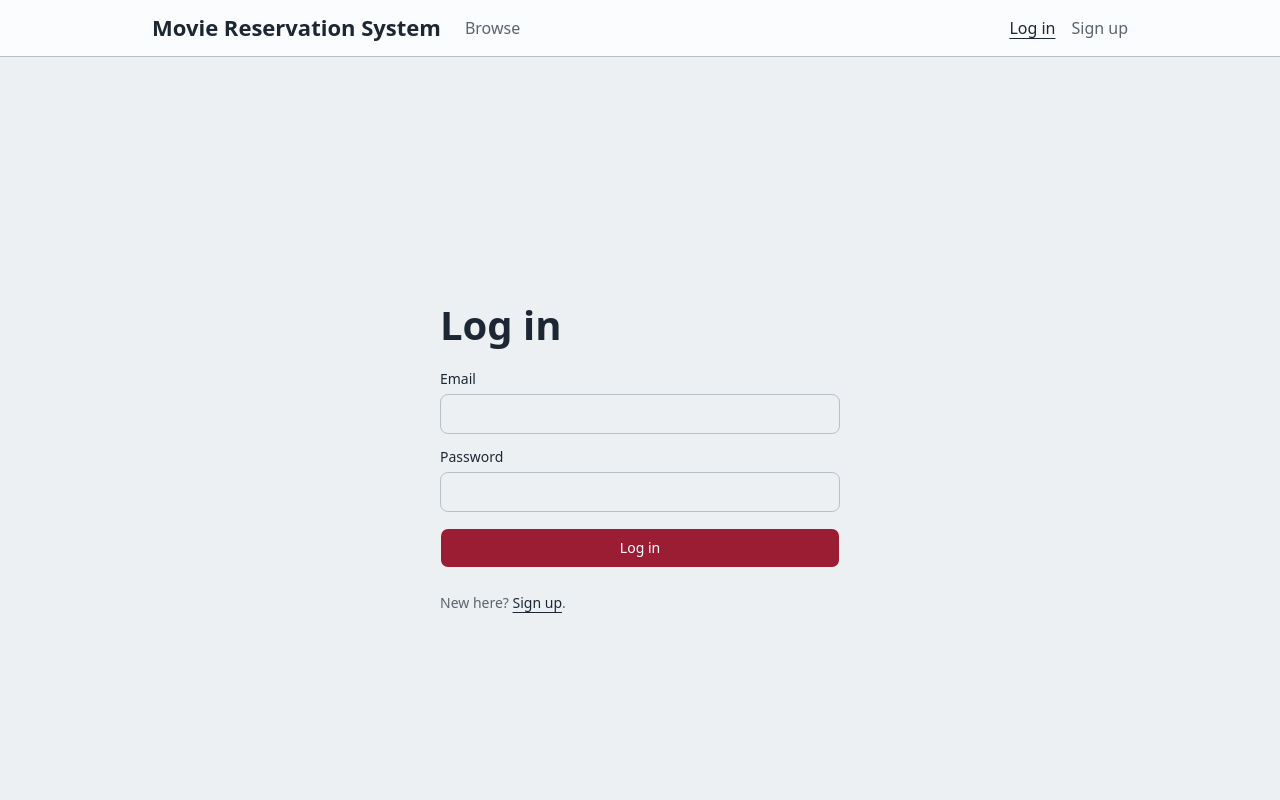
Test: auth › protected_routes_redirect_anonymous_to_login_with_next
Check: the heading "Log in" is shown, box [440,296,562,352]
Type "ana@example.com" into the field labelled "Email".
click(640, 414); type("ana@example.com")  # box [440,394,840,434]
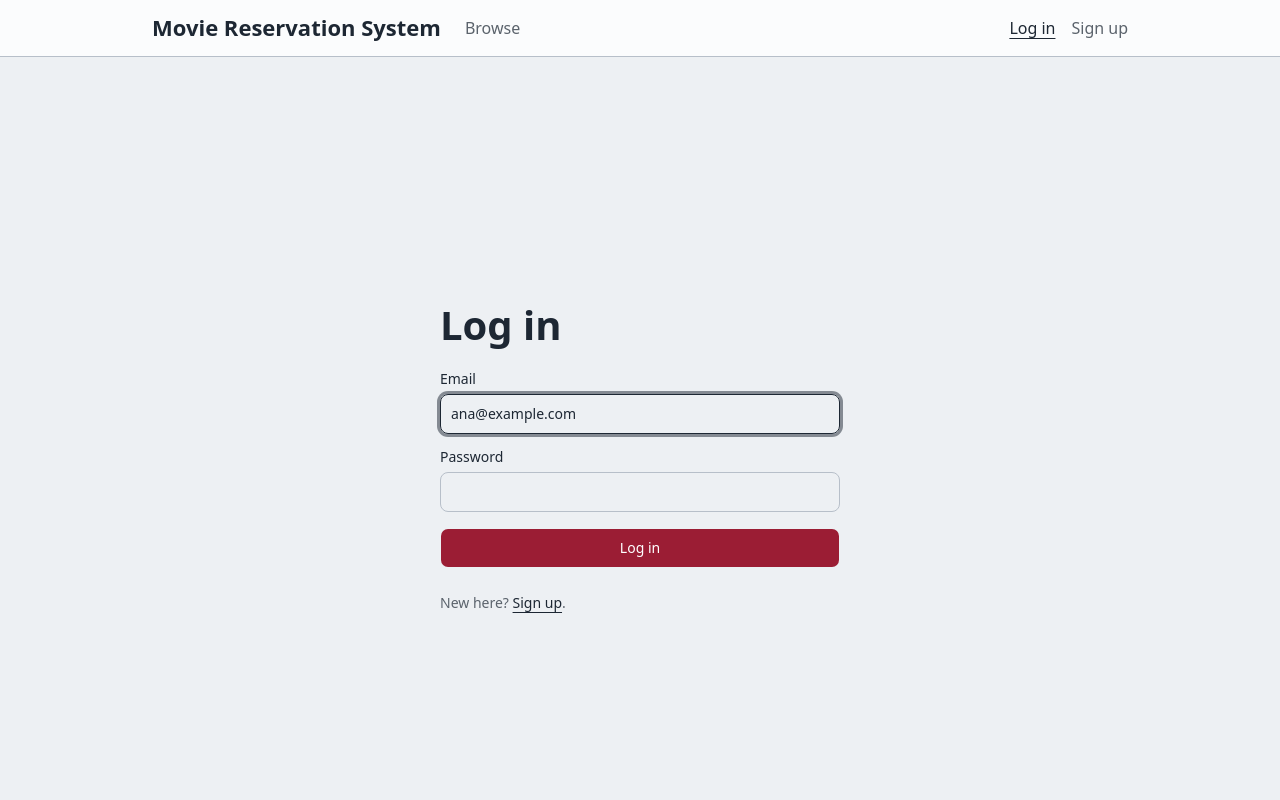
Type "correct-horse-battery" into the password field labelled "Password".
click(640, 492); type("correct-horse-battery")  # box [440,472,840,512]
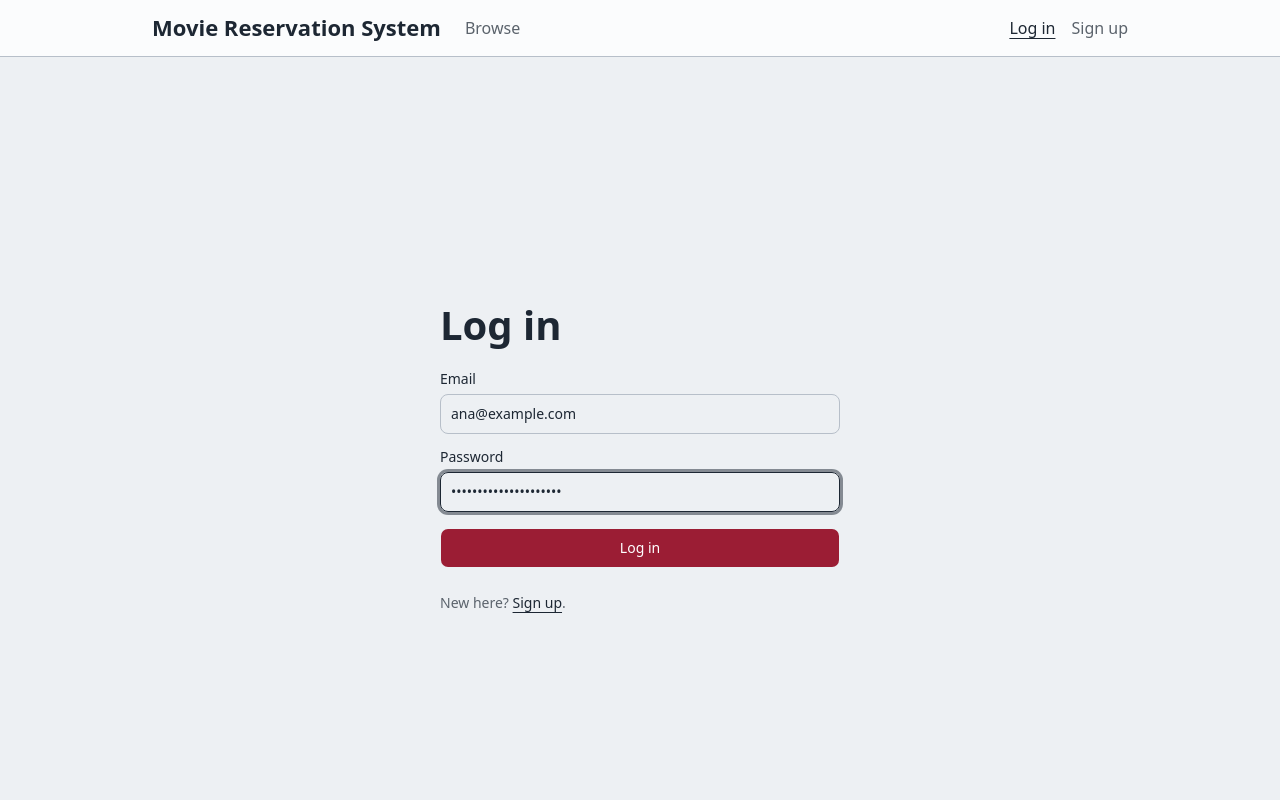
Click the button "Log in".
click(640, 548)  # box [440,528,840,568]
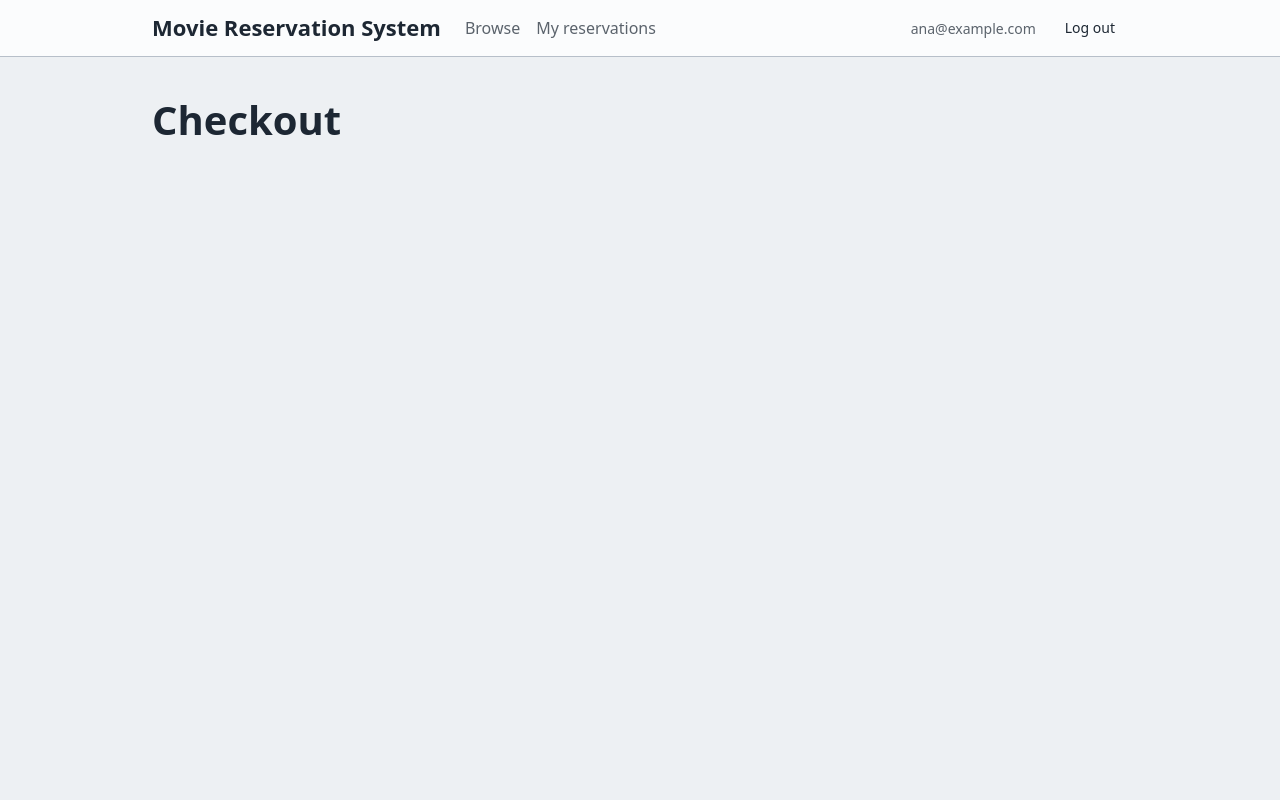
Check: the heading "Checkout" is shown, box [152,92,341,147]
